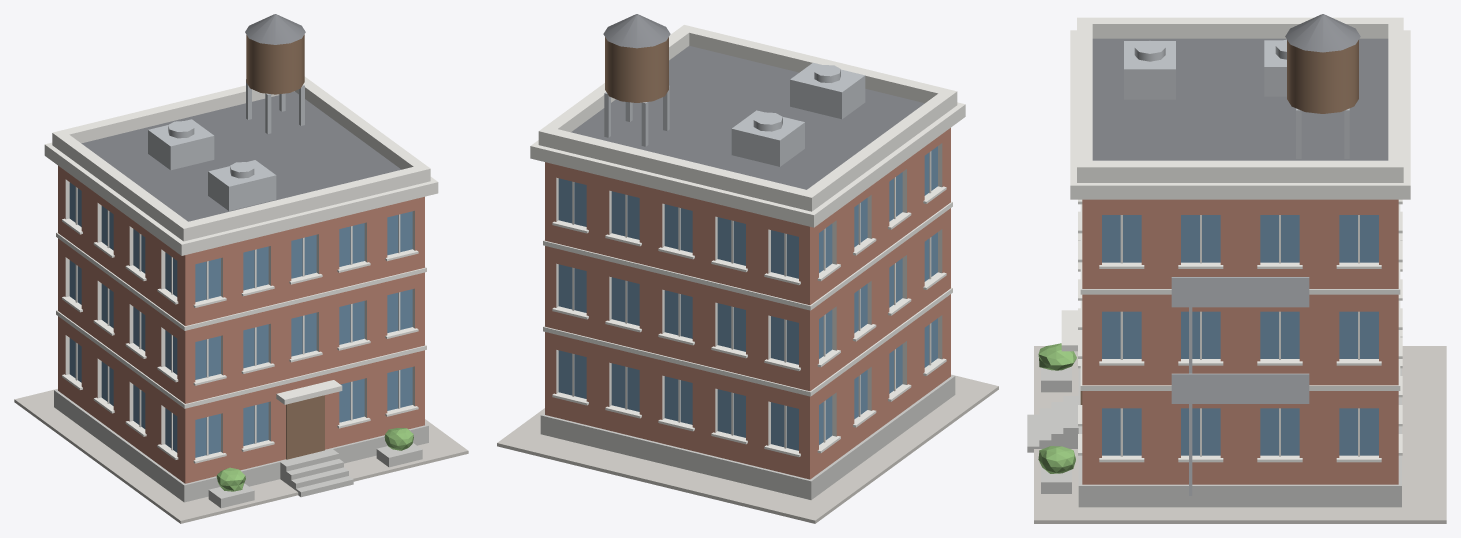
3 views of the same model, side by side, from view 1: azimuth 30°, elevation 25°; view 2: azimuth 150°, elevation 25°; view 3: azimuth 270°, elevation 25° (orthographic). The views are drawn at different scales.
Visible parts, largest first — view 1: r_2_1_a; view 2: r_2_1_a; view 3: r_2_1_a.
Part boxes in pixels (x1=…): r_2_1_a: x1=14, y1=14, x2=468, y2=523; r_2_1_a: x1=497, y1=14, x2=998, y2=523; r_2_1_a: x1=1027, y1=14, x2=1446, y2=523.
Size of the model in its own units: 12 by 14.85 by 12.2.
